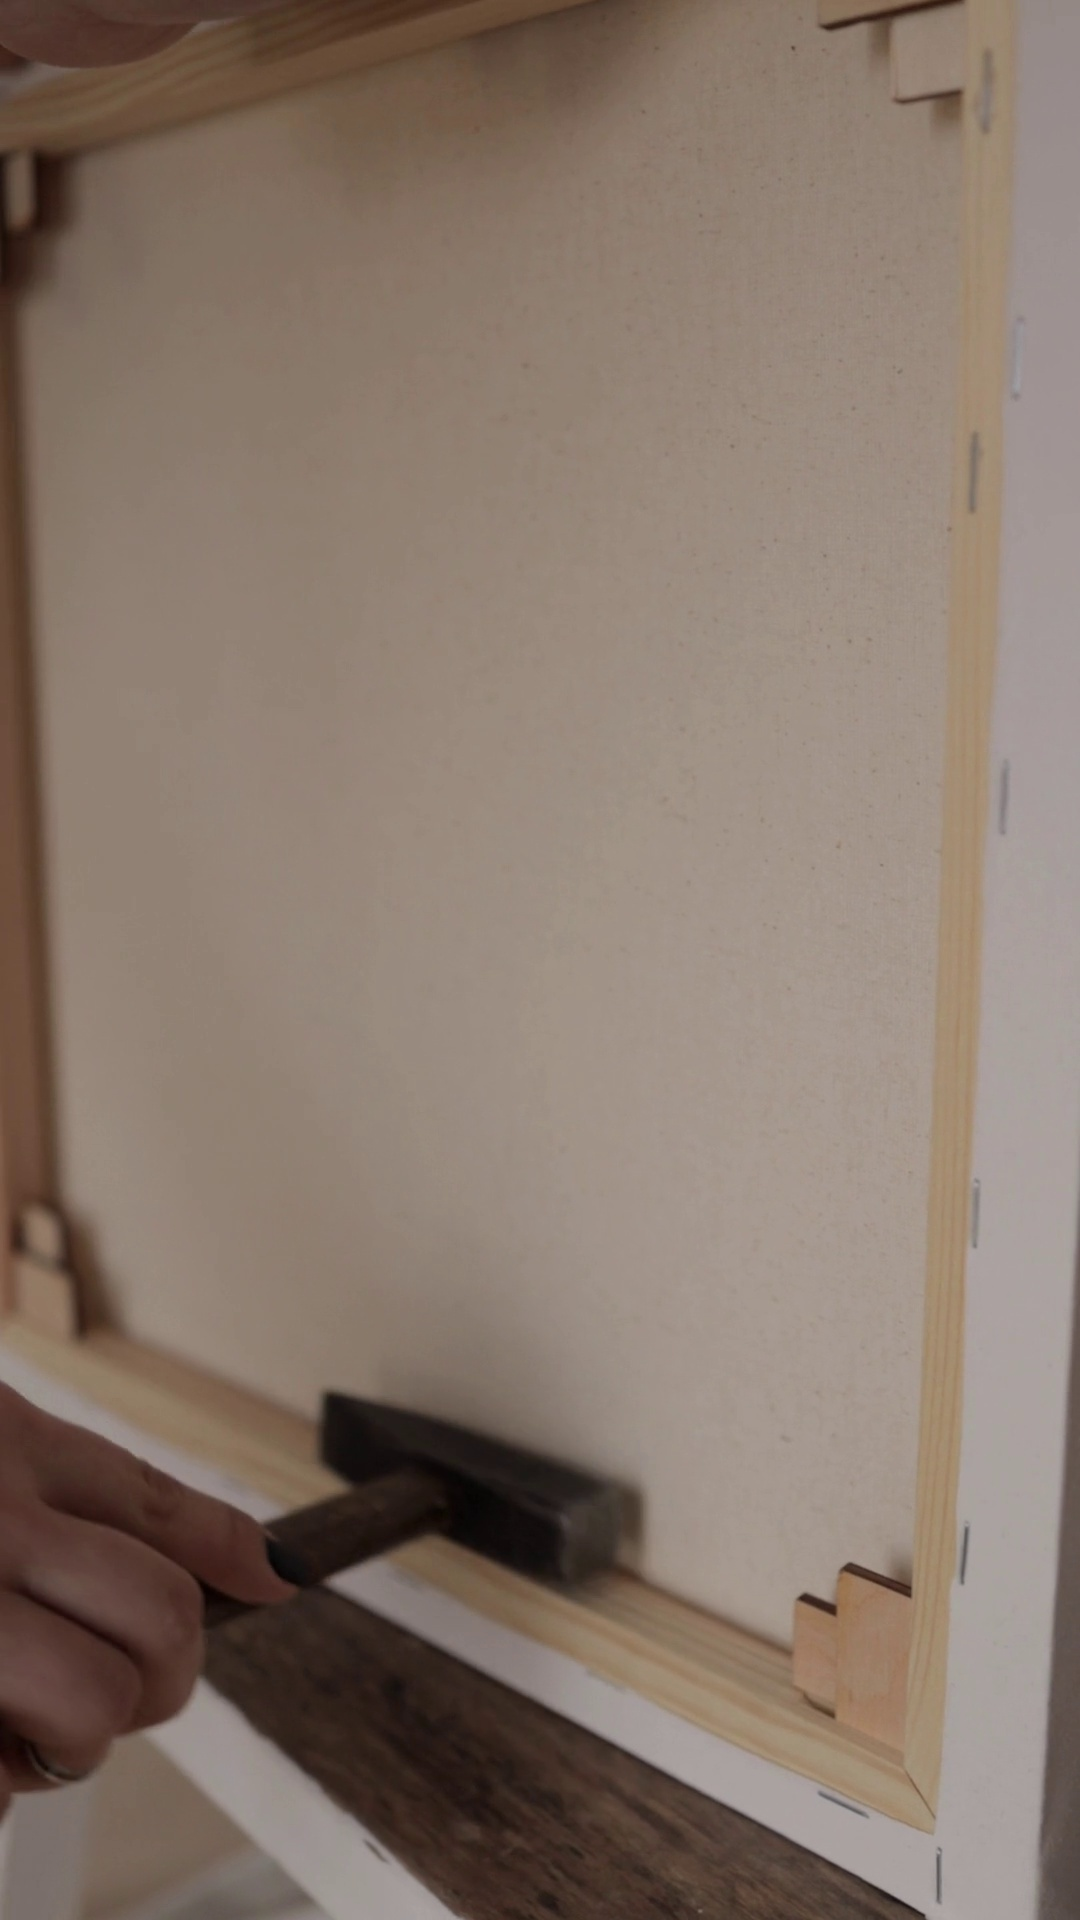hammer: (16, 1385, 630, 1727)
